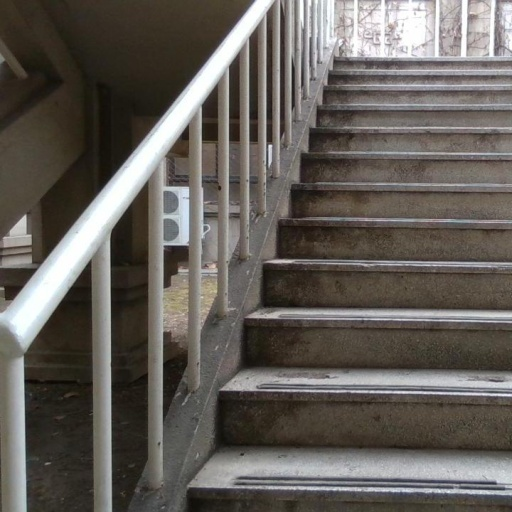Stairs: (189, 58, 512, 512)
